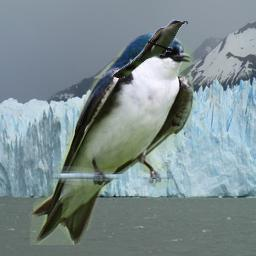Cuckoo: (112, 19, 188, 78)
Swallow: (29, 30, 194, 245)
